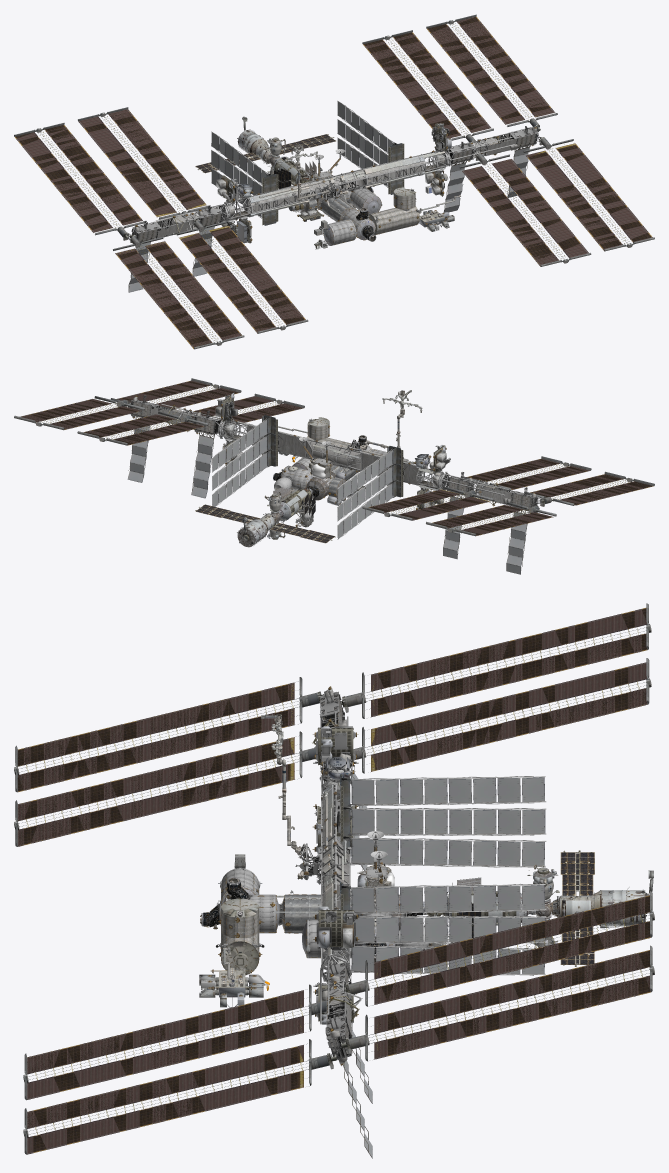
File: iss.glb
3 views of the same model, one above another, from view 1: azimuth 30°, elevation 25°; view 2: azimuth 150°, elevation 25°; view 3: azimuth 270°, elevation 25° (orthographic). The views are drawn at different scales.
Parts seen in each view (by area): view 1: panel_01_p, 14 S0 Truss, 15 (MBS) Mobile Base System, 09 Destiny Space Laboratory, 06 Z1 Truss, 02 Unity Node 1, BeamLock, 05 Zvezda (SM) Service Module, 39 Rassvet (MRM-1) Mini Research Module, 25 (ESP) External Stowage Platform 3; view 2: panel_01_p, 15 (MBS) Mobile Base System, 14 S0 Truss, BeamLock, 06 Z1 Truss, 05 Zvezda (SM) Service Module, 02 Unity Node 1, 09 Destiny Space Laboratory, 39 Rassvet (MRM-1) Mini Research Module, 25 (ESP) External Stowage Platform 3; view 3: panel_01_p, 15 (MBS) Mobile Base System, 14 S0 Truss, 09 Destiny Space Laboratory, 05 Zvezda (SM) Service Module, BeamLock, 06 Z1 Truss, 02 Unity Node 1, 25 (ESP) External Stowage Platform 3, 39 Rassvet (MRM-1) Mini Research Module.
Part boxes in pixels (bbox=[...]): panel_01_p: bbox=[14, 14, 654, 349]; 14 S0 Truss: bbox=[216, 123, 460, 249]; 15 (MBS) Mobile Base System: bbox=[156, 100, 514, 222]; 09 Destiny Space Laboratory: bbox=[292, 187, 419, 234]; 06 Z1 Truss: bbox=[128, 126, 539, 287]; 02 Unity Node 1: bbox=[301, 172, 382, 245]; BeamLock: bbox=[132, 125, 536, 245]; 05 Zvezda (SM) Service Module: bbox=[221, 129, 454, 231]; 39 Rassvet (MRM-1) Mini Research Module: bbox=[293, 169, 413, 212]; 25 (ESP) External Stowage Platform 3: bbox=[222, 169, 448, 245]; panel_01_p: bbox=[14, 378, 654, 574]; 15 (MBS) Mobile Base System: bbox=[161, 404, 508, 539]; 14 S0 Truss: bbox=[215, 393, 446, 509]; BeamLock: bbox=[132, 395, 535, 547]; 06 Z1 Truss: bbox=[128, 395, 541, 570]; 05 Zvezda (SM) Service Module: bbox=[222, 390, 440, 547]; 02 Unity Node 1: bbox=[281, 446, 387, 499]; 09 Destiny Space Laboratory: bbox=[307, 417, 356, 497]; 39 Rassvet (MRM-1) Mini Research Module: bbox=[295, 418, 361, 527]; 25 (ESP) External Stowage Platform 3: bbox=[224, 439, 450, 509]; panel_01_p: bbox=[14, 603, 654, 1158]; 15 (MBS) Mobile Base System: bbox=[295, 711, 546, 1024]; 14 S0 Truss: bbox=[219, 726, 354, 1024]; 09 Destiny Space Laboratory: bbox=[221, 894, 351, 975]; 05 Zvezda (SM) Service Module: bbox=[199, 714, 645, 1007]; BeamLock: bbox=[200, 686, 643, 1065]; 06 Z1 Truss: bbox=[278, 690, 394, 1151]; 02 Unity Node 1: bbox=[221, 864, 402, 958]; 25 (ESP) External Stowage Platform 3: bbox=[199, 726, 358, 1017]; 39 Rassvet (MRM-1) Mini Research Module: bbox=[236, 834, 449, 969].
Size of the model in its own units: 112 by 30.35 by 76.48.
Materials: 42 (24 with a texture image).
